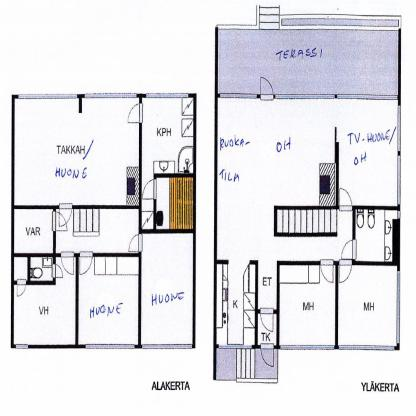door: (62, 249, 75, 283), (126, 103, 144, 126), (258, 309, 275, 333), (341, 238, 358, 262), (50, 212, 68, 234), (320, 259, 334, 286), (260, 343, 276, 366), (58, 201, 72, 227), (261, 78, 275, 104), (80, 252, 94, 276), (339, 260, 352, 285), (340, 188, 352, 215), (141, 181, 157, 200), (129, 237, 146, 253), (52, 261, 64, 278), (18, 282, 26, 298)
window: (281, 344, 335, 352), (276, 95, 336, 102), (19, 94, 78, 101), (85, 93, 136, 100), (84, 342, 134, 349), (339, 344, 394, 350), (140, 344, 192, 349), (146, 94, 188, 100), (336, 96, 399, 100), (397, 106, 402, 154), (396, 272, 399, 344), (396, 155, 400, 204), (220, 94, 257, 99), (217, 346, 256, 350), (14, 340, 28, 350), (397, 212, 401, 217)
zone: (218, 100, 351, 260), (14, 100, 139, 204), (218, 28, 398, 98), (141, 98, 192, 230), (336, 100, 398, 206), (141, 233, 192, 342), (14, 258, 76, 344), (79, 256, 138, 343), (337, 265, 397, 344), (278, 263, 335, 345), (55, 206, 140, 250), (218, 264, 254, 345), (355, 209, 395, 258), (158, 176, 193, 230), (16, 207, 54, 255), (218, 348, 276, 379), (258, 261, 276, 308), (29, 259, 53, 280), (259, 315, 276, 342), (13, 258, 28, 280)
